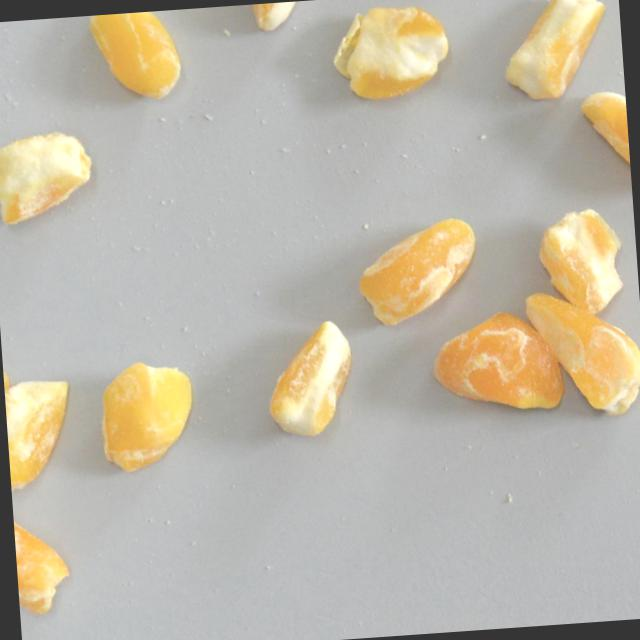dañado: (427, 310, 568, 423)
pelicula: (523, 284, 640, 419), (352, 213, 482, 329), (327, 0, 450, 104), (261, 315, 356, 438), (98, 358, 199, 471), (498, 0, 602, 105), (532, 205, 626, 317), (0, 125, 98, 225), (86, 9, 184, 103), (3, 375, 76, 489), (12, 492, 75, 616), (578, 84, 632, 196), (247, 0, 320, 31)
